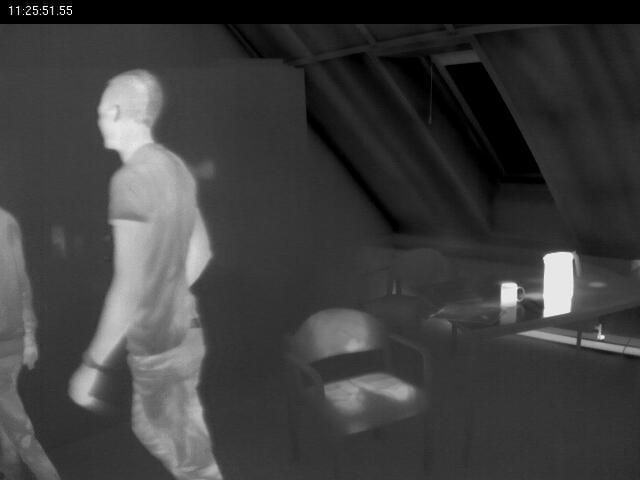person: (68, 76, 221, 473), (1, 201, 51, 480)
